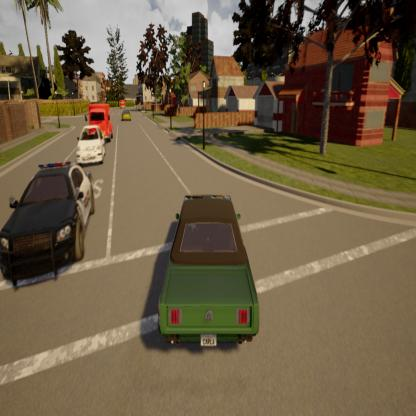Cars: (132, 151, 285, 388), (0, 112, 98, 306), (68, 108, 110, 175), (77, 80, 113, 148), (116, 84, 128, 115), (118, 103, 131, 130)
